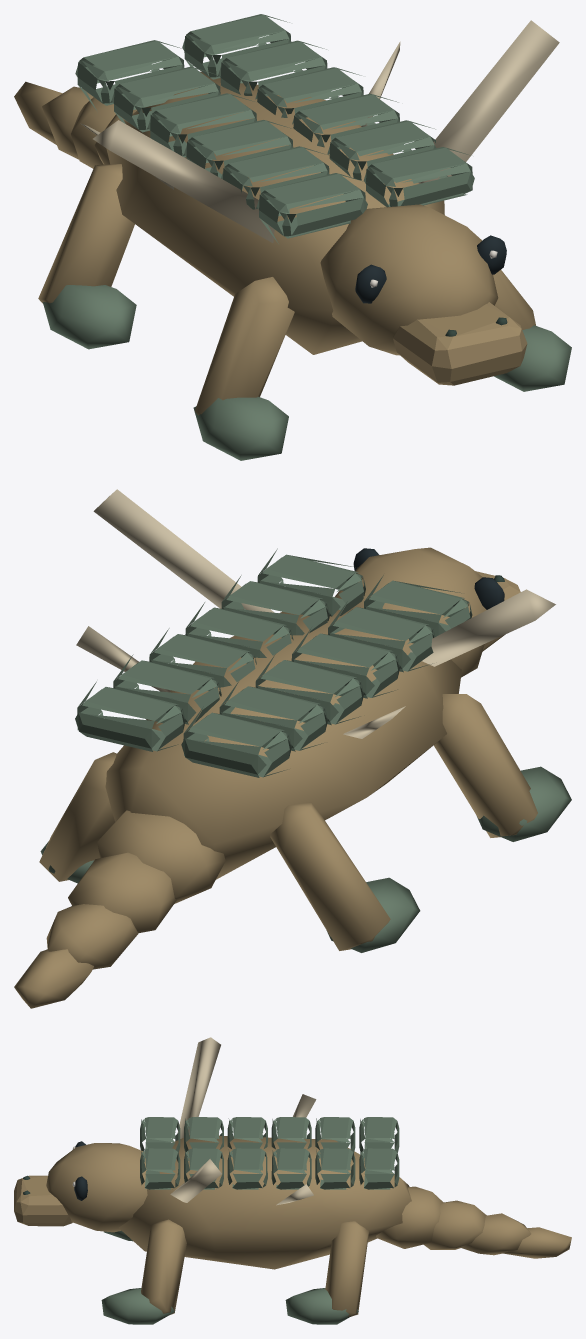
File: org_desmatosuchus.glb
3 views of the same model, one above another, from view 1: azimuth 30°, elevation 25°; view 2: azimuth 150°, elevation 25°; view 3: azimuth 270°, elevation 25° (orthographic). The views are drawn at different scales.
Parts seen in each view (by area): view 1: Body, Head, Leg_FR, Leg_BR, Tail, Leg_FL, Eye_R, Eye_L; view 2: Body, Tail, Leg_BR, Leg_FR, Head, Leg_BL, Eye_R; view 3: Body, Head, Tail, Leg_FL, Leg_BL.
Boxes of the visible parts, left/top/right/bottom form: Body: left=75, top=14, right=559, bottom=354; Head: left=320, top=204, right=527, bottom=385; Leg_FR: left=193, top=277, right=294, bottom=460; Leg_BR: left=38, top=164, right=136, bottom=349; Tail: left=14, top=81, right=136, bottom=168; Leg_FL: left=467, top=227, right=571, bottom=391; Eye_R: left=355, top=264, right=386, bottom=303; Eye_L: left=477, top=235, right=506, bottom=274; Body: left=75, top=489, right=555, bottom=879; Tail: left=14, top=810, right=225, bottom=1008; Leg_BR: left=270, top=802, right=420, bottom=952; Leg_FR: left=434, top=694, right=571, bottom=841; Head: left=335, top=547, right=520, bottom=677; Leg_BL: left=39, top=752, right=116, bottom=883; Eye_R: left=474, top=577, right=504, bottom=609; Body: left=119, top=1037, right=411, bottom=1269; Head: left=14, top=1143, right=147, bottom=1232; Tail: left=376, top=1186, right=571, bottom=1258; Leg_FL: left=101, top=1219, right=186, bottom=1324; Leg_BL: left=285, top=1221, right=369, bottom=1324.
Size of the model in its own units: 1.4 by 0.8997 by 2.5.
